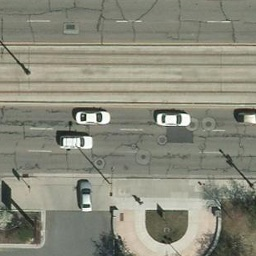car: (76, 108, 112, 127), (76, 176, 95, 212), (155, 110, 188, 128), (59, 134, 93, 151)
